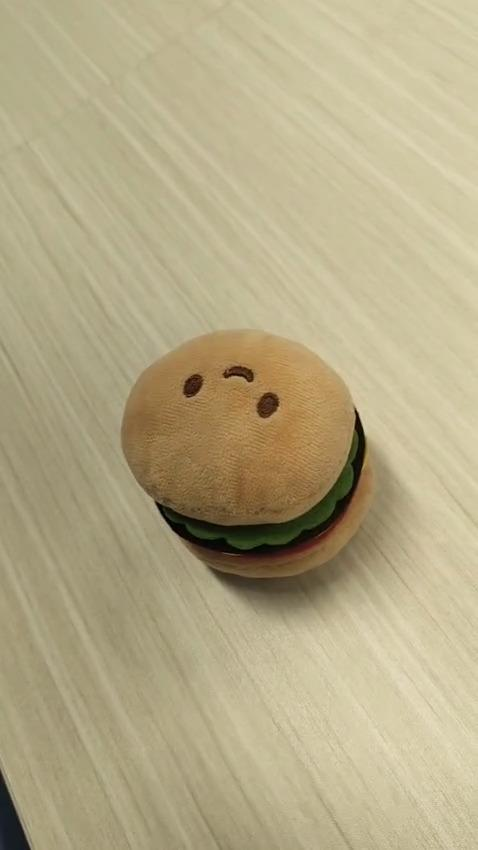hamburger: (119, 326, 375, 580)
